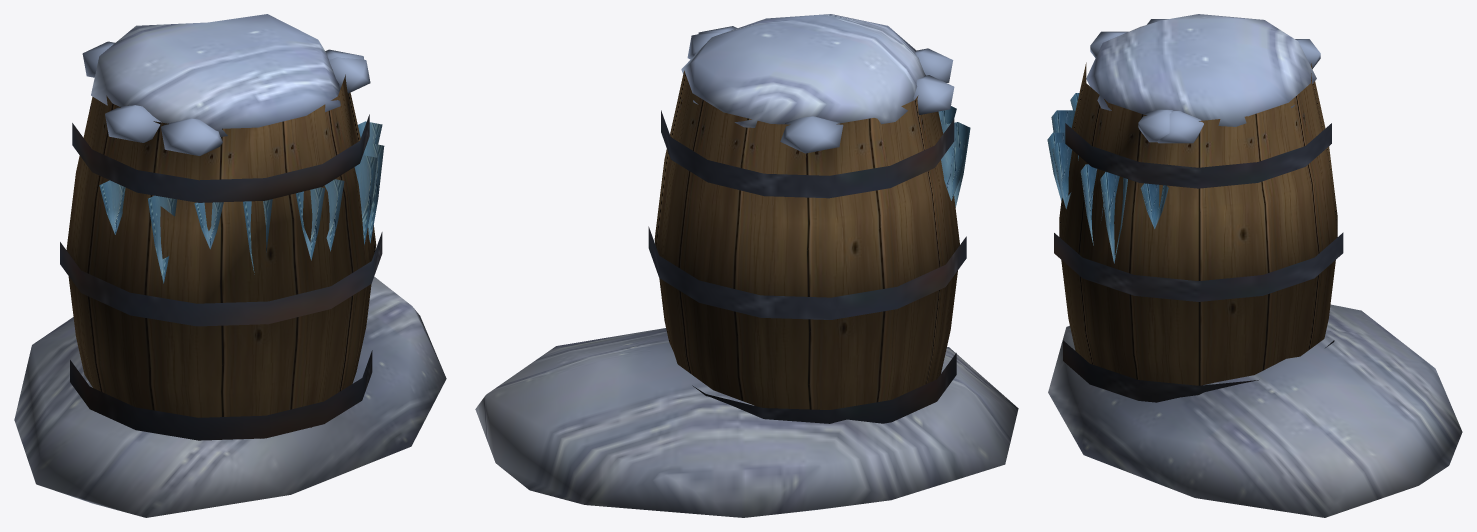
The model's file is rimeshore_barrel.glb.
The picture shows the model from 3 angles, left to right: view 1: azimuth 30°, elevation 25°; view 2: azimuth 150°, elevation 25°; view 3: azimuth 270°, elevation 25°; orthographic projection. The views are drawn at different scales.
Parts seen in each view (by area): view 1: rimeshore_barrel; view 2: rimeshore_barrel; view 3: rimeshore_barrel.
Part boxes in pixels (x1=…): rimeshore_barrel: x1=14, y1=14, x2=446, y2=517; rimeshore_barrel: x1=475, y1=14, x2=1018, y2=517; rimeshore_barrel: x1=1047, y1=14, x2=1462, y2=517.
Size of the model in its own units: 1.06 by 0.8677 by 0.9015.
Materials: 4 (4 with a texture image).
